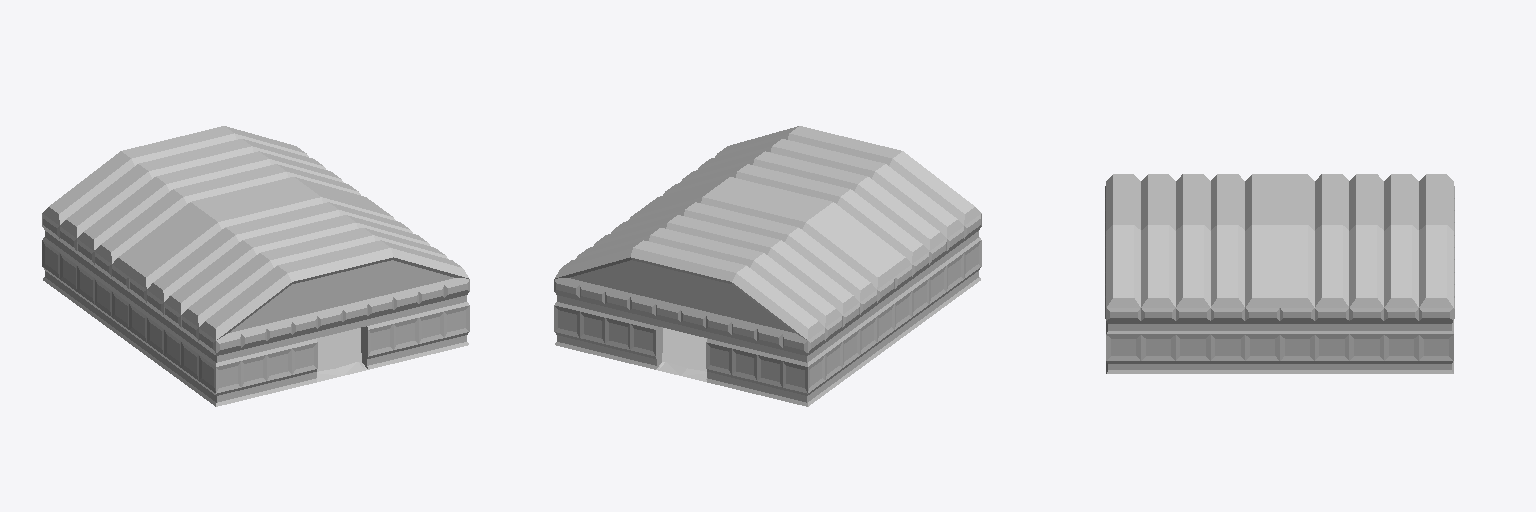
Rendered from Warehouse.obj.
3 views of the same model, side by side, from view 1: azimuth 30°, elevation 25°; view 2: azimuth 150°, elevation 25°; view 3: azimuth 270°, elevation 25° (orthographic).
Visible parts, largest first — view 1: Warehouse_body_Cube.006; view 2: Warehouse_body_Cube.006; view 3: Warehouse_body_Cube.006.
Boxes of the visible parts, x1=… form: Warehouse_body_Cube.006: x1=42, y1=126, x2=469, y2=406; Warehouse_body_Cube.006: x1=554, y1=126, x2=981, y2=406; Warehouse_body_Cube.006: x1=1105, y1=174, x2=1454, y2=373.
Bounding box in the file's own units: 457 × 193 × 543.